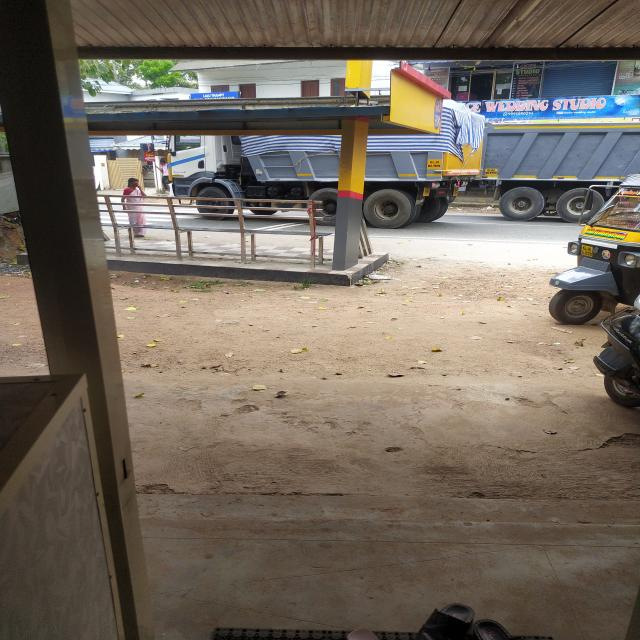Autorickshaw: (544, 181, 640, 321)
Bike: (581, 284, 640, 422)
Truck: (152, 87, 486, 221), (482, 106, 640, 221)
